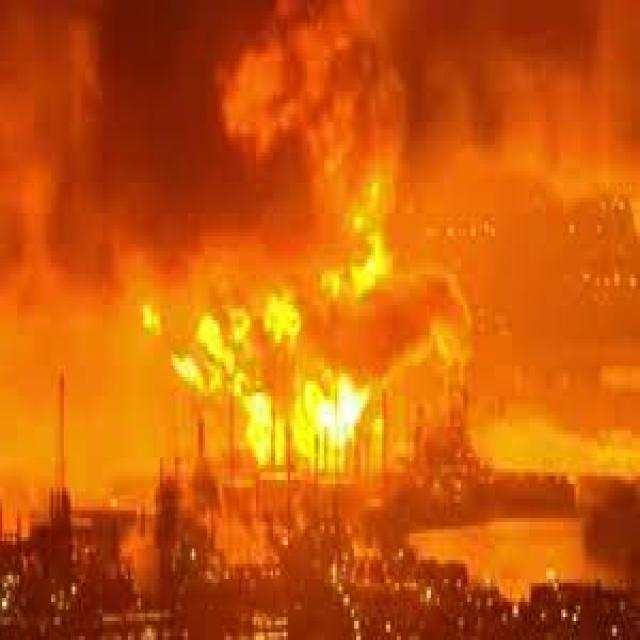fire: (177, 229, 414, 458)
